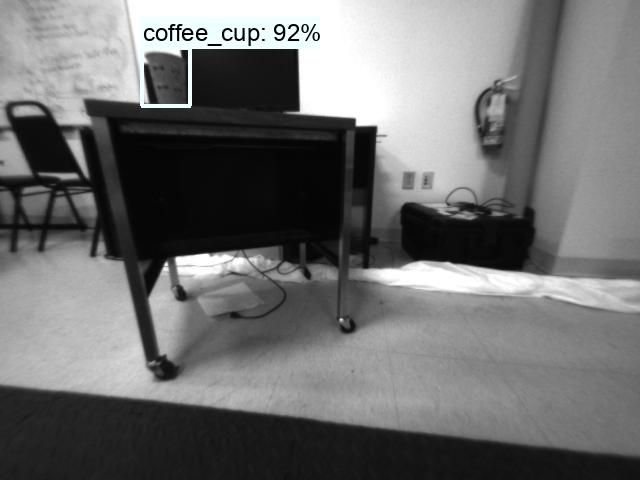coffee_cup: (142, 50, 191, 105)
